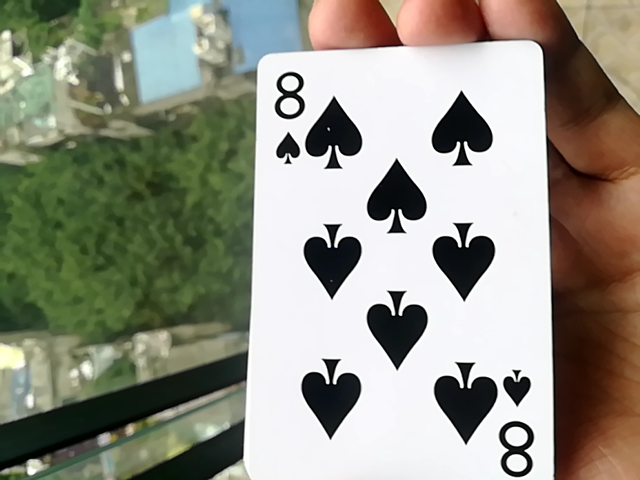ht 8: (233, 37, 542, 479)
